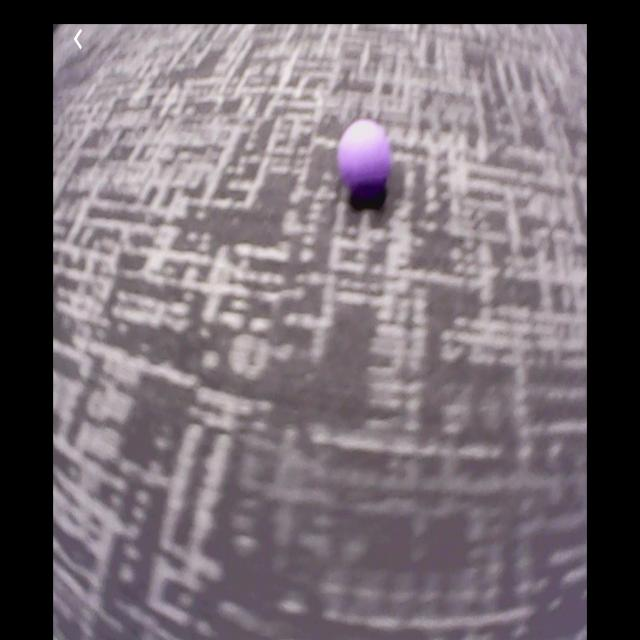ball: (340, 121, 392, 199)
